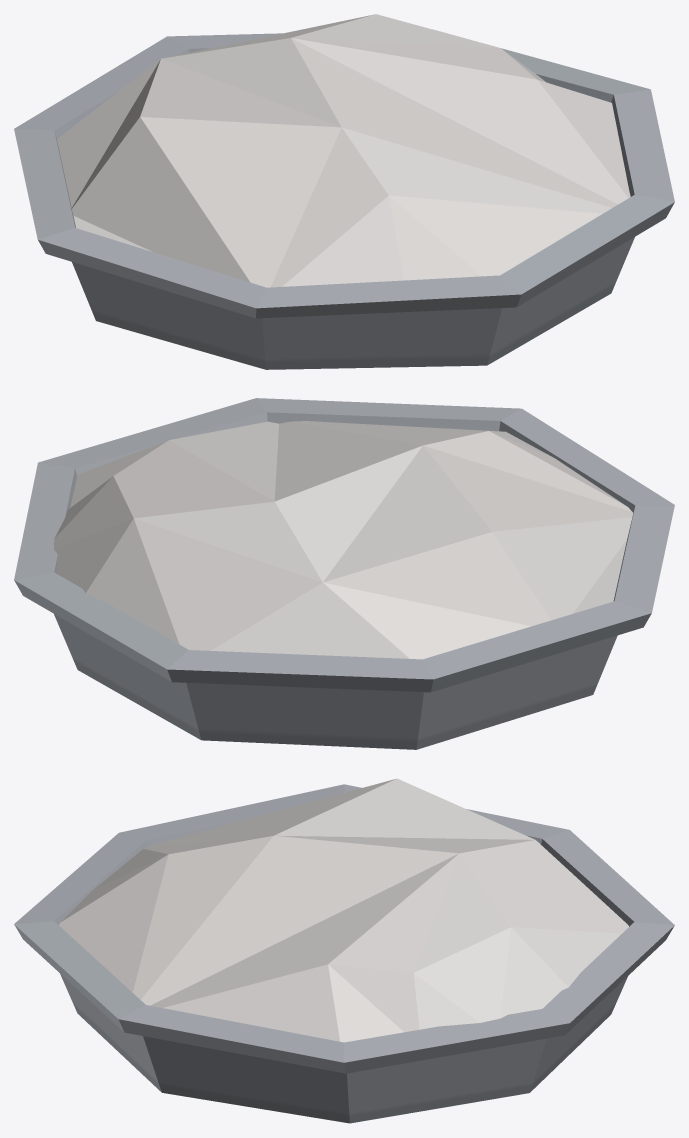
The model's file is SM_Prop_Plate_Large_04.fbx.
The picture shows the model from 3 angles, top to bottom: view 1: azimuth 30°, elevation 25°; view 2: azimuth 150°, elevation 25°; view 3: azimuth 270°, elevation 25°; orthographic projection. The views are drawn at different scales.
Visible parts, largest first — view 1: SM_Prop_Plate_Large_Grain_04, SM_Prop_Plate_Large_04; view 2: SM_Prop_Plate_Large_Grain_04, SM_Prop_Plate_Large_04; view 3: SM_Prop_Plate_Large_Grain_04, SM_Prop_Plate_Large_04.
Boxes of the visible parts, left/top/right/bottom form: SM_Prop_Plate_Large_Grain_04: left=57, top=14, right=630, bottom=287; SM_Prop_Plate_Large_04: left=14, top=30, right=674, bottom=369; SM_Prop_Plate_Large_Grain_04: left=54, top=421, right=633, bottom=659; SM_Prop_Plate_Large_04: left=14, top=398, right=674, bottom=749; SM_Prop_Plate_Large_Grain_04: left=59, top=778, right=628, bottom=1042; SM_Prop_Plate_Large_04: left=14, top=784, right=674, bottom=1123.
Size of the model in its own units: 87.58 by 24.47 by 87.64.
